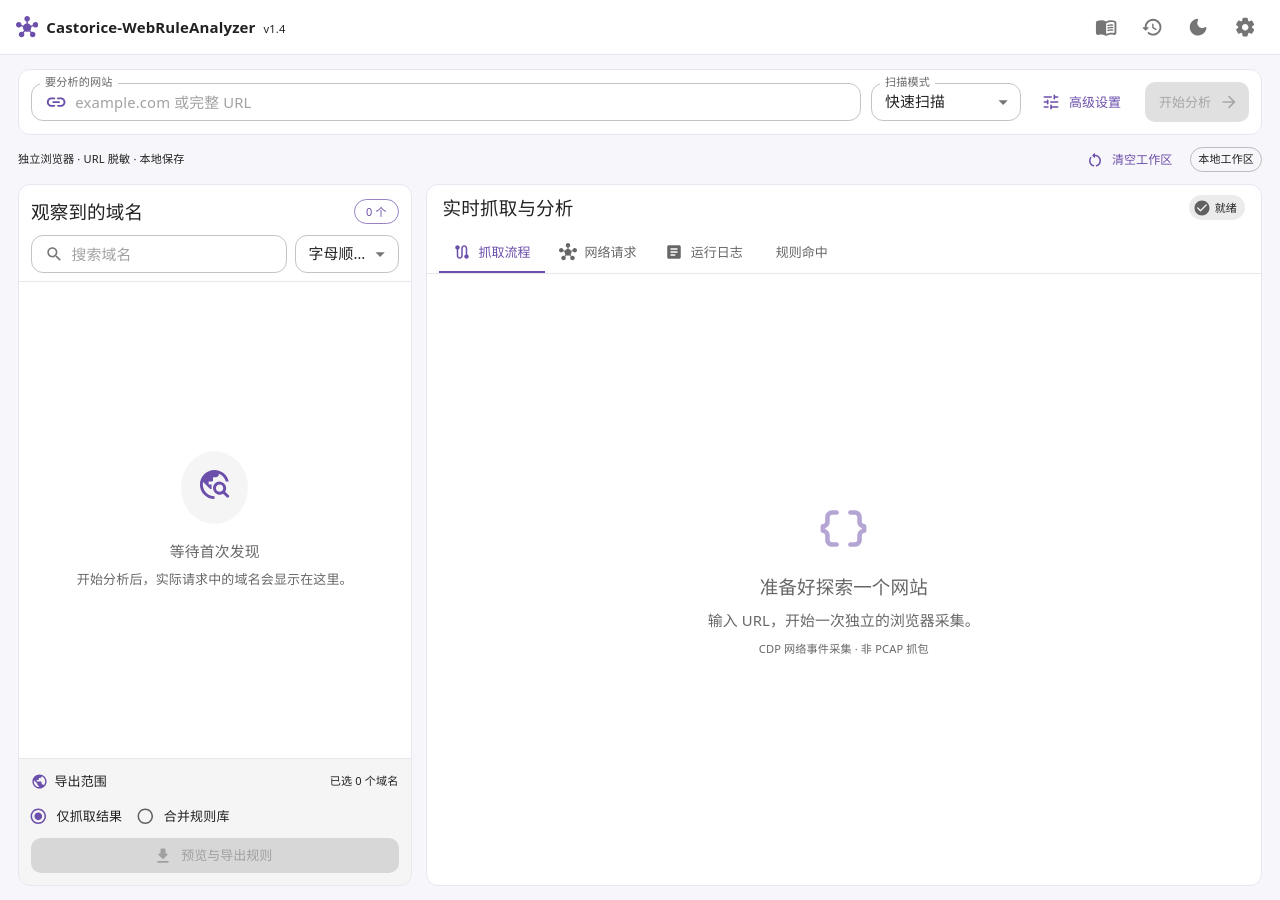
Scenario: 清空工作区 › 已经处于空工作区时再次清空，也会重置新输入的面板搜索
Expected: the button "清空工作区" is enabled, [1074,145,1186,174]
Step 1. Type "temporary" into the field labelled "搜索域名" → coordinates (179, 254), box [72,235,287,273]
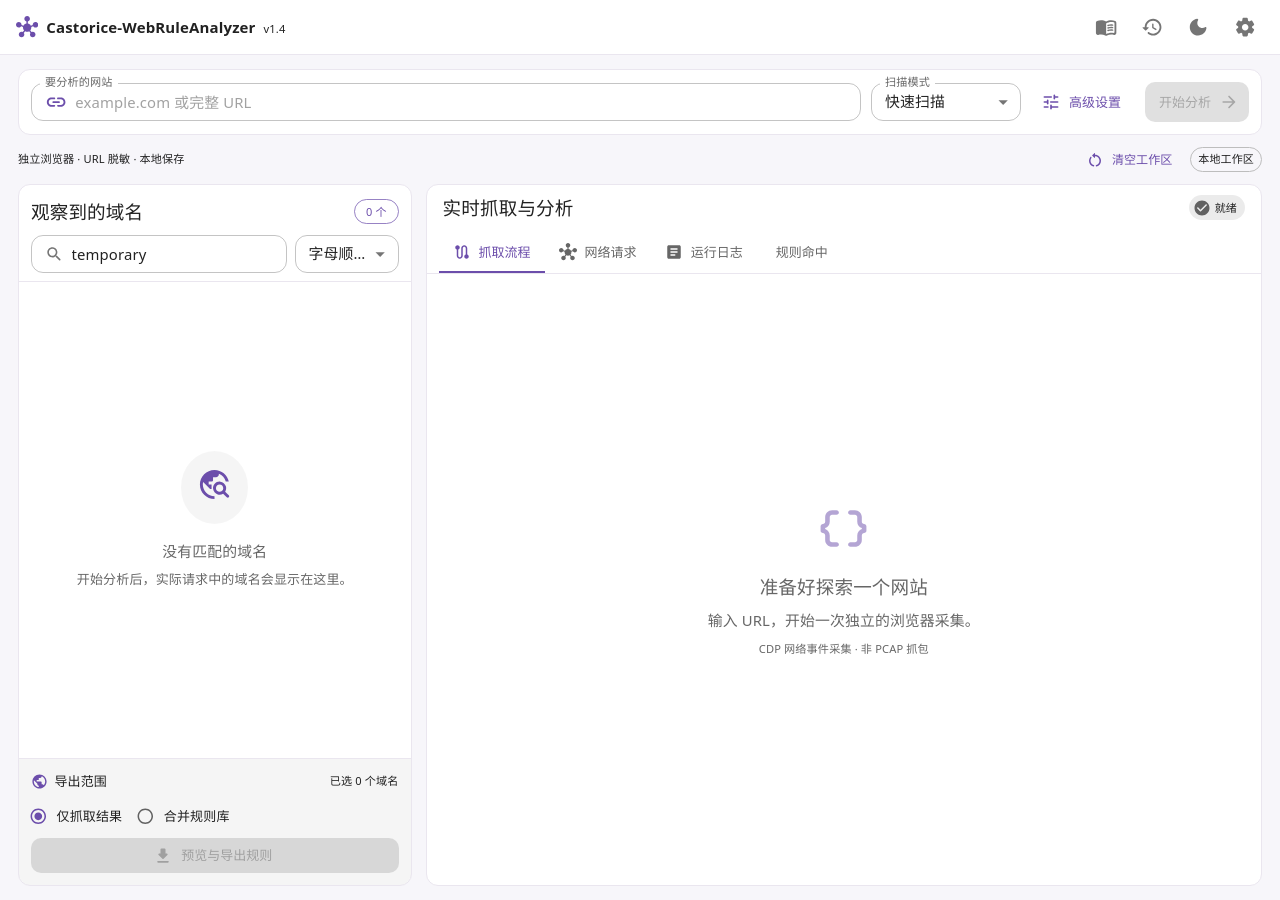
Step 2. Click the button "清空工作区" → coordinates (1130, 160), box [1074,145,1186,174]
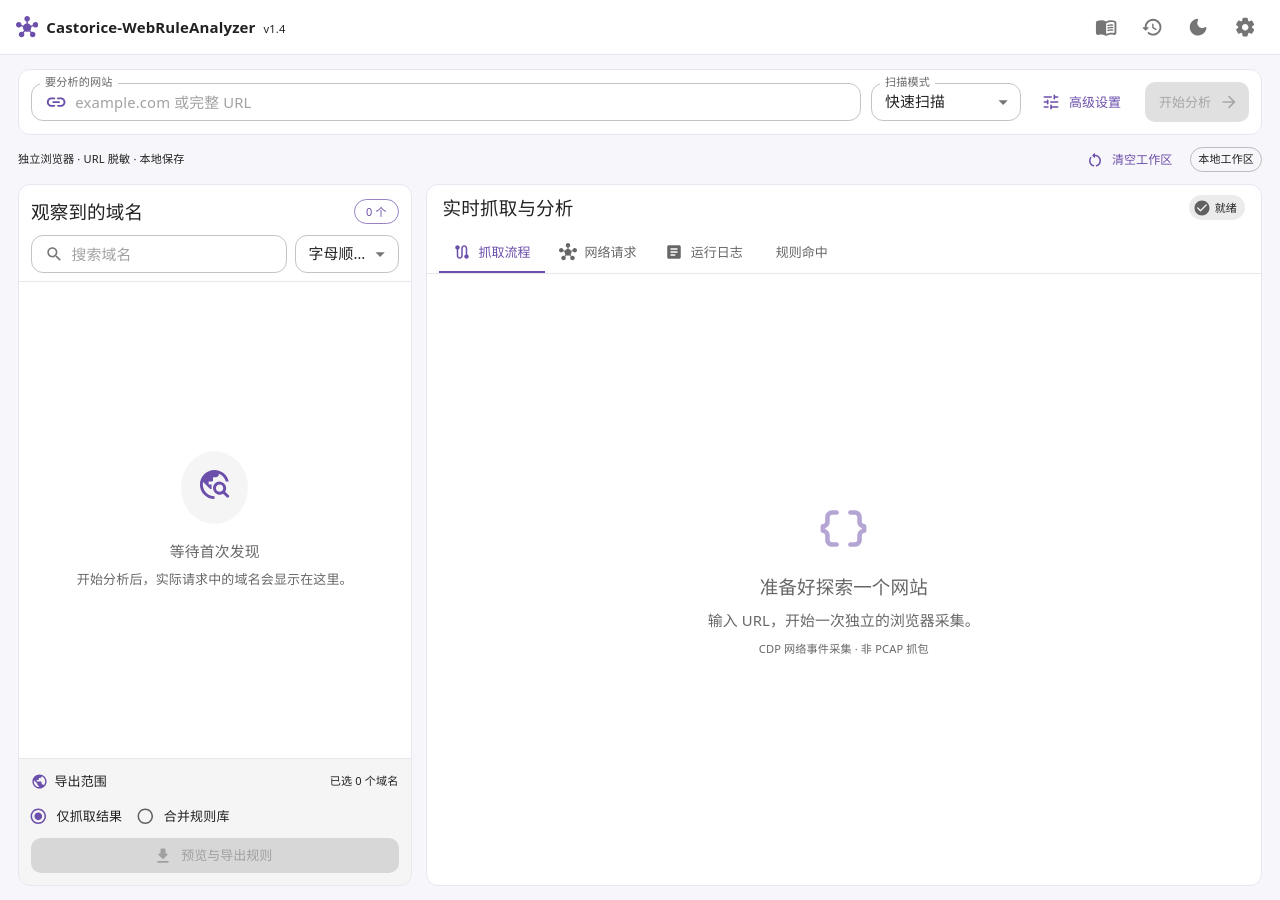
Now the field labelled "搜索域名" is empty, box [72,235,287,273]
Now the text "等待首次发现" is shown, box [170,540,260,562]
